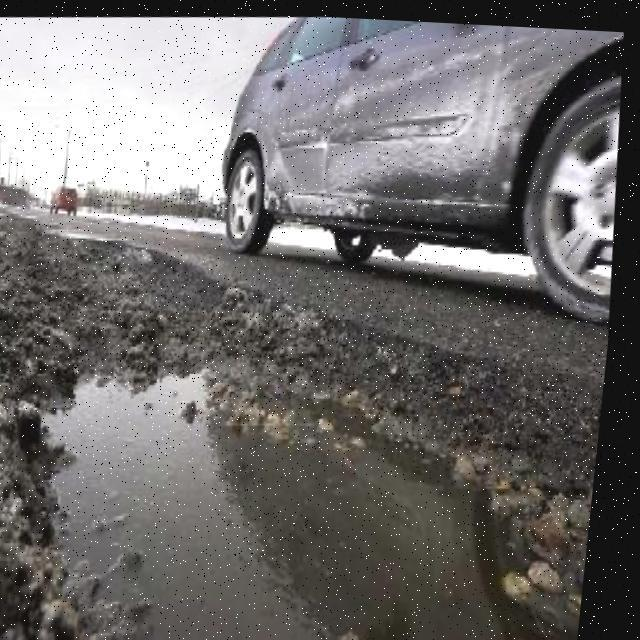pothole: (0, 179, 625, 640)
